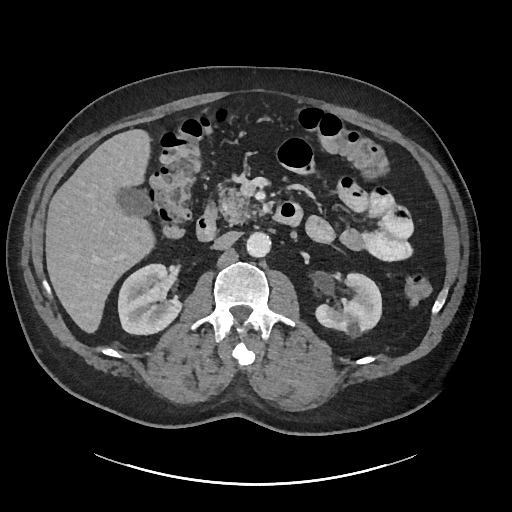Lesion: (345, 319, 361, 339)
